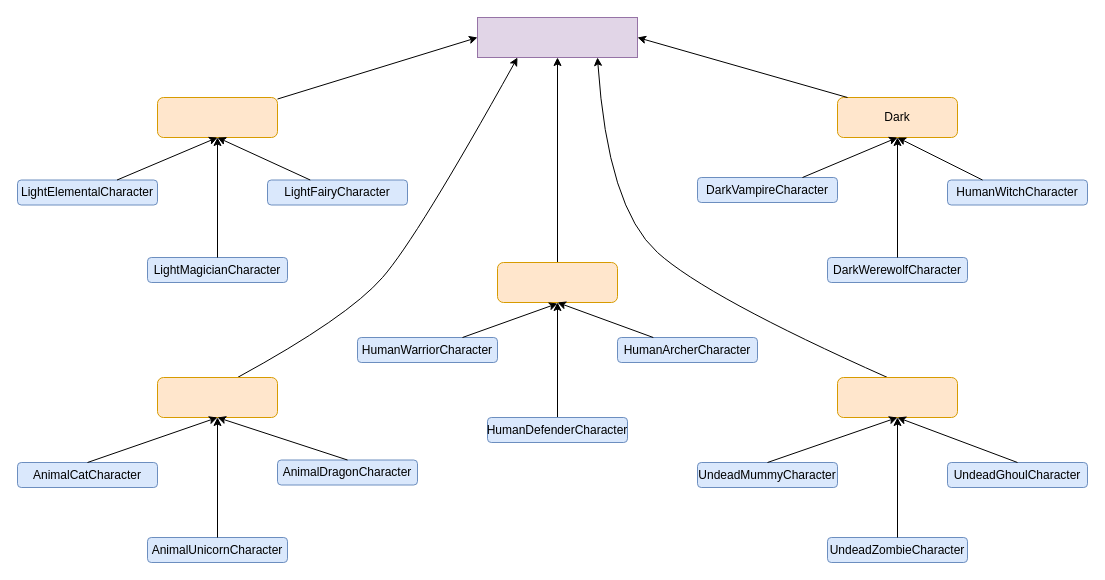
Some shapes in this 1105 by 580 pixel diagram are drawn without their labels. The centre of each missing label's shape, as x and y in pixels:
"AbstractRace" goes at [557,37].
"Animal" goes at [217,397].
"Human" goes at [557,282].
"Light" goes at [217,117].
"Undead" goes at [897,397].
